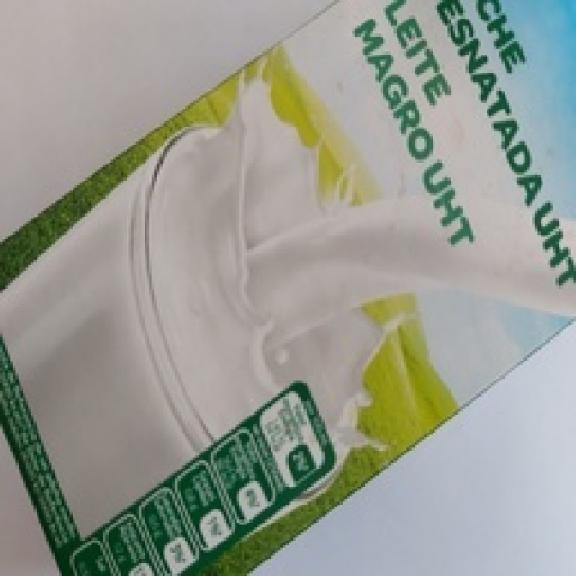Kertas: (3, 3, 573, 571)
